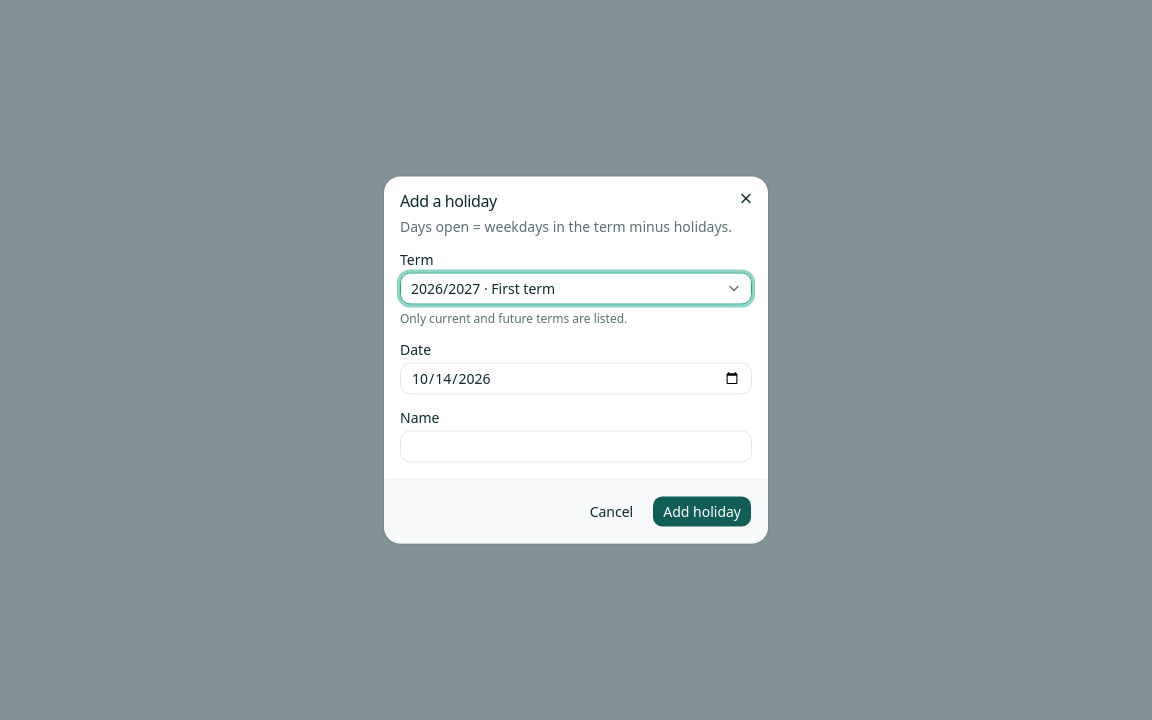
Test case: AddHolidayDialog › shows the API refusal inline
Type "x" into the field labelled "Name".
click(576, 446); type("x")  # box x1=400 y1=430 x2=752 y2=462
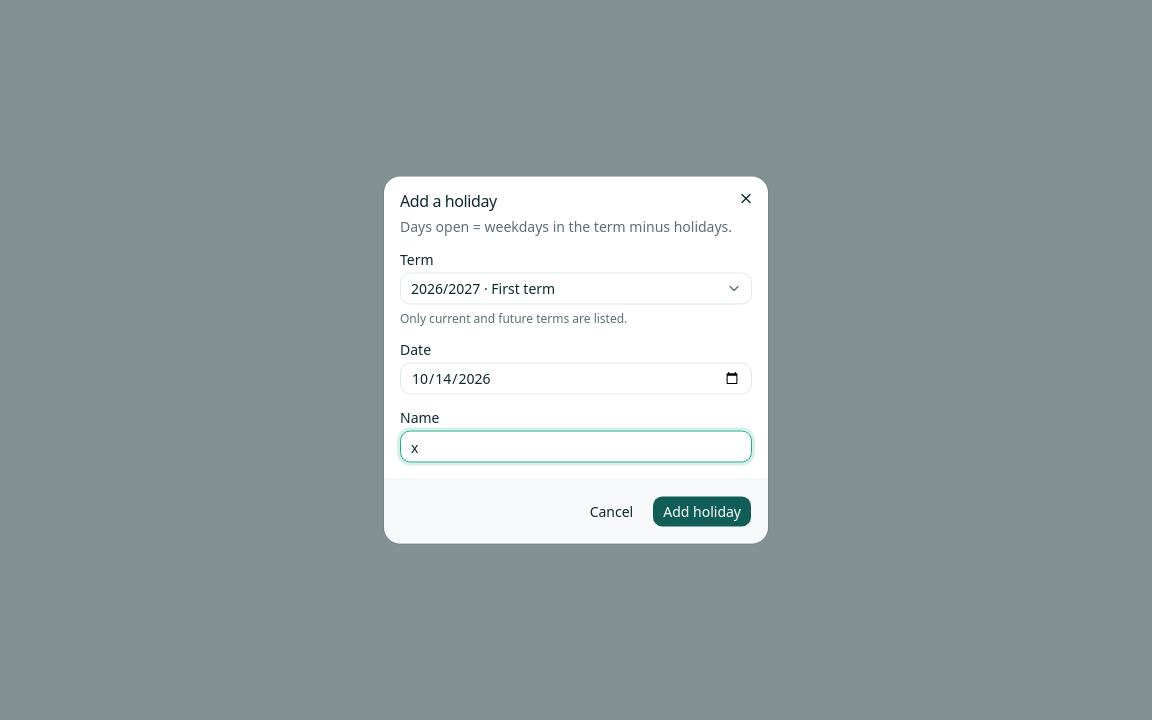
Click the button "Add holiday".
click(702, 512)  # box x1=652 y1=496 x2=752 y2=528
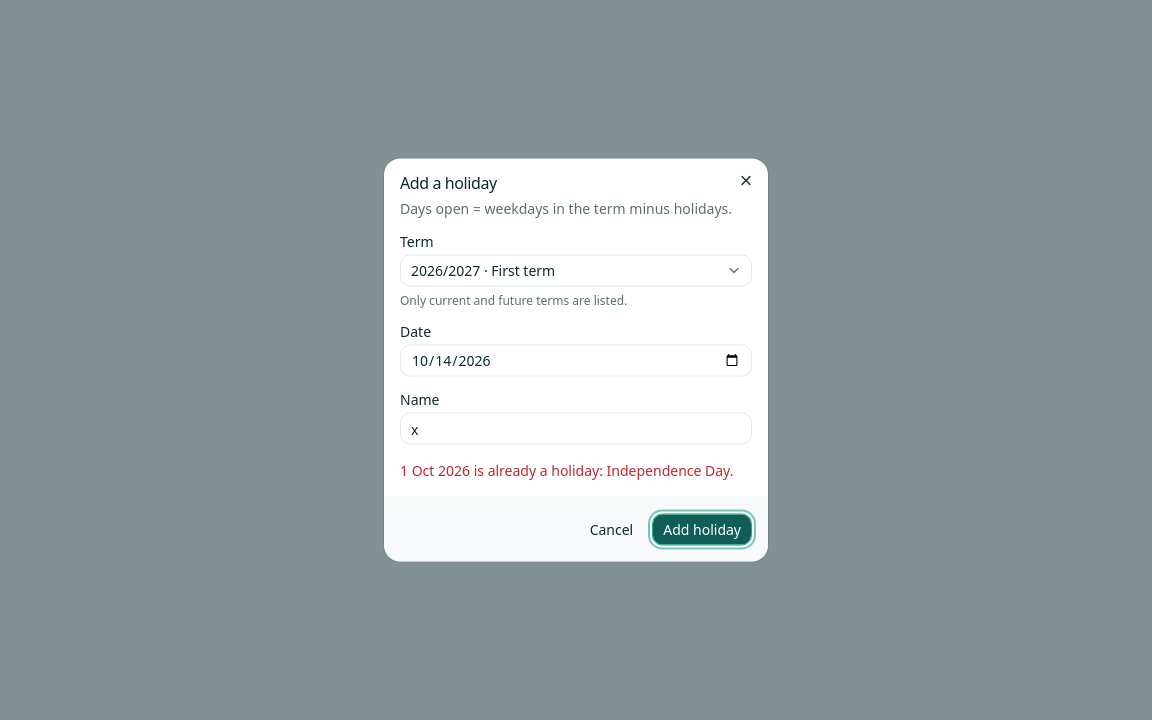
Expected: the message reads "1 Oct 2026 is already a holiday: Independence Day.", x1=400 y1=460 x2=734 y2=480
